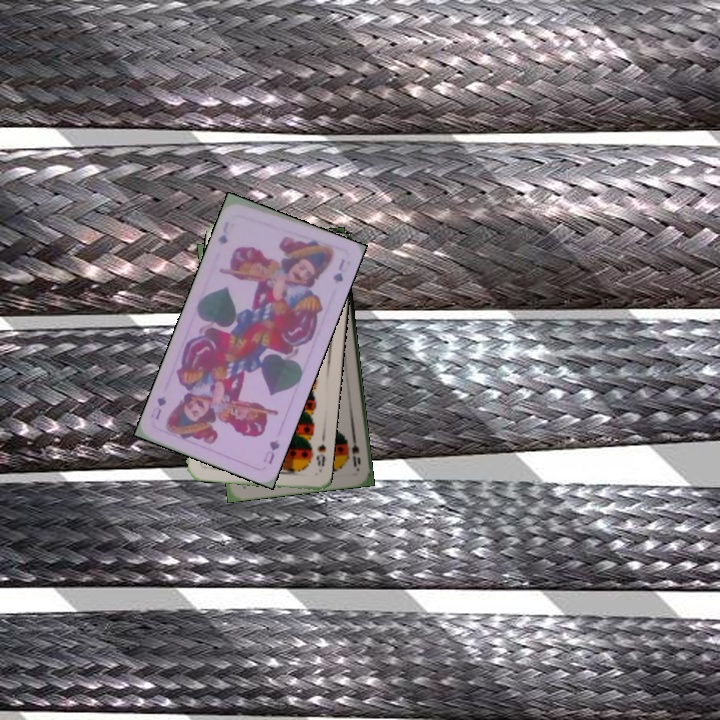GU: (259, 435, 282, 467), (214, 217, 233, 247)
S8: (312, 440, 328, 469)
SO: (348, 430, 363, 471)
